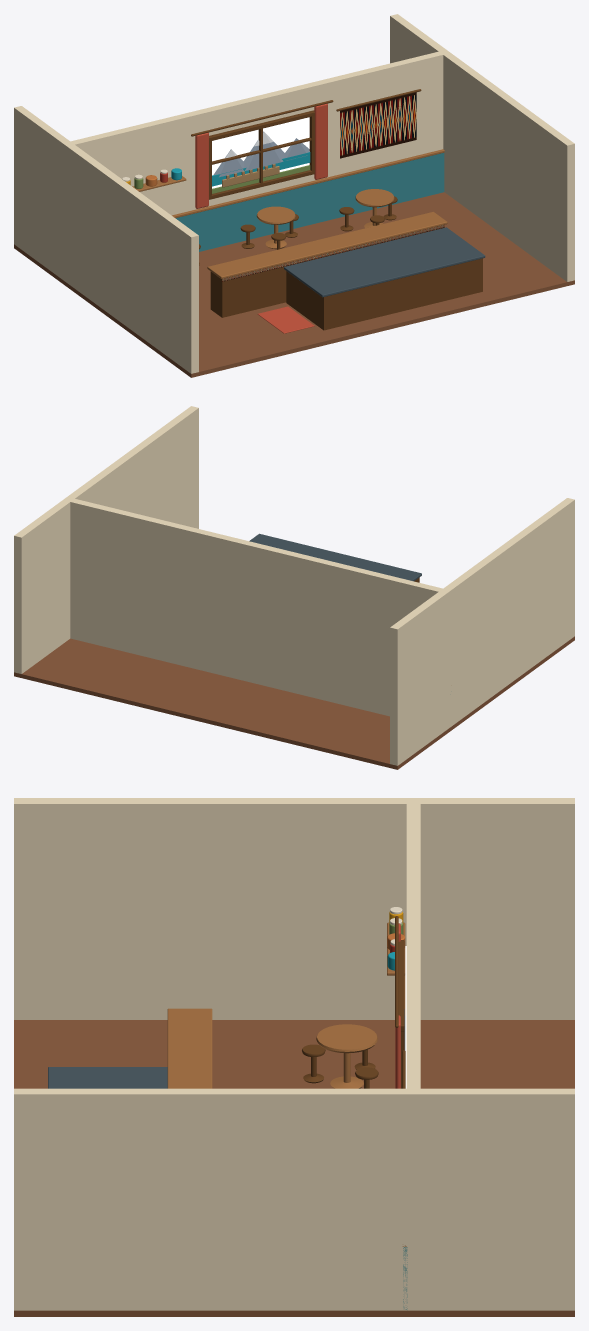
The model's file is mutfak.glb.
3 renders of one model, top to bottom at view 1: azimuth 30°, elevation 25°; view 2: azimuth 150°, elevation 25°; view 3: azimuth 270°, elevation 25°, orthographic. The views are drawn at different scales.
Visible parts, largest first — view 1: duvar_yan.001, duvar_yan, duvar_arka, zemin, lambri, tezgah, tezgah_govde, bar_ust, duvar_kilimi, bar_govde, p_gok, lambri_cita (+12 smaller); view 2: duvar_arka, duvar_yan.001, zemin, duvar_yan, tezgah; view 3: duvar_yan, duvar_yan.001, zemin, duvar_arka, bar_ust, tezgah, masa.
Part boxes in pixels (left/top/right/bottom): duvar_yan.001: left=14, top=106, right=198, bottom=373; duvar_yan: left=390, top=14, right=574, bottom=281; duvar_arka: left=63, top=50, right=449, bottom=215; zemin: left=14, top=192, right=574, bottom=377; lambri: left=176, top=153, right=444, bottom=251; tezgah: left=284, top=227, right=485, bottom=297; tezgah_govde: left=286, top=258, right=482, bottom=330; bar_ust: left=207, top=211, right=447, bottom=278; duvar_kilimi: left=340, top=92, right=416, bottom=158; bar_govde: left=210, top=227, right=444, bottom=317; p_gok: left=212, top=117, right=309, bottom=188; lambri_cita: left=172, top=149, right=444, bottom=218; duvar_arka: left=63, top=499, right=450, bottom=727; duvar_yan.001: left=390, top=498, right=574, bottom=765; zemin: left=14, top=636, right=574, bottom=769; duvar_yan: left=14, top=406, right=198, bottom=673; tezgah: left=249, top=533, right=421, bottom=581; duvar_yan: left=14, top=1088, right=574, bottom=1310; duvar_yan.001: left=14, top=798, right=574, bottom=1019; zemin: left=14, top=1020, right=574, bottom=1316; duvar_arka: left=406, top=798, right=420, bottom=1310; bar_ust: left=167, top=1008, right=212, bottom=1088; tezgah: left=48, top=1067, right=167, bottom=1088; masa: left=316, top=1024, right=377, bottom=1088.
Bounding box in the file's own units: 10 × 3.5 × 8.
Materials: 64 (1 with a texture image).
